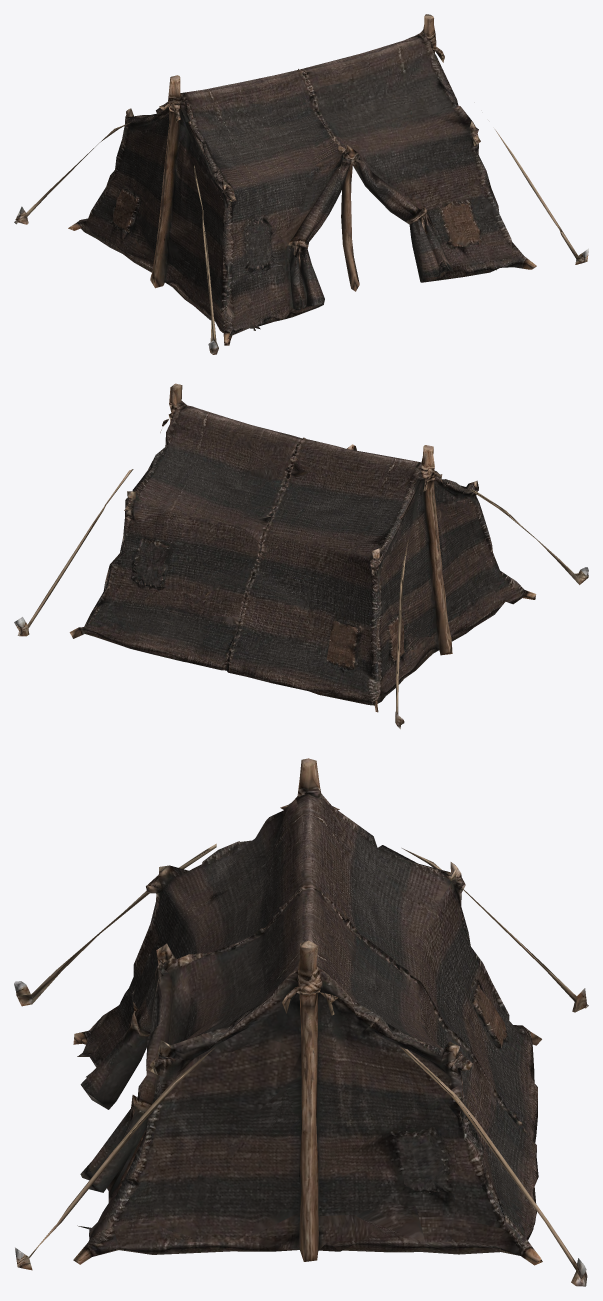
The model's file is camp_tent_game.glb.
3 views of the same model, one above another, from view 1: azimuth 30°, elevation 25°; view 2: azimuth 150°, elevation 25°; view 3: azimuth 270°, elevation 25° (orthographic). The views are drawn at different scales.
Parts seen in each view (by area): view 1: tripo_node_fd10a95f-ba45-486a-b88b-dd8d4bc6eeb7; view 2: tripo_node_fd10a95f-ba45-486a-b88b-dd8d4bc6eeb7; view 3: tripo_node_fd10a95f-ba45-486a-b88b-dd8d4bc6eeb7.
Boxes of the visible parts, x1,y1,x2,y2 form: tripo_node_fd10a95f-ba45-486a-b88b-dd8d4bc6eeb7: (14,14,588,354); tripo_node_fd10a95f-ba45-486a-b88b-dd8d4bc6eeb7: (14,383,588,728); tripo_node_fd10a95f-ba45-486a-b88b-dd8d4bc6eeb7: (14,758,588,1286).
Size of the model in its own units: 0.9759 by 0.4884 by 0.8408.
1 material, 1 textured.
